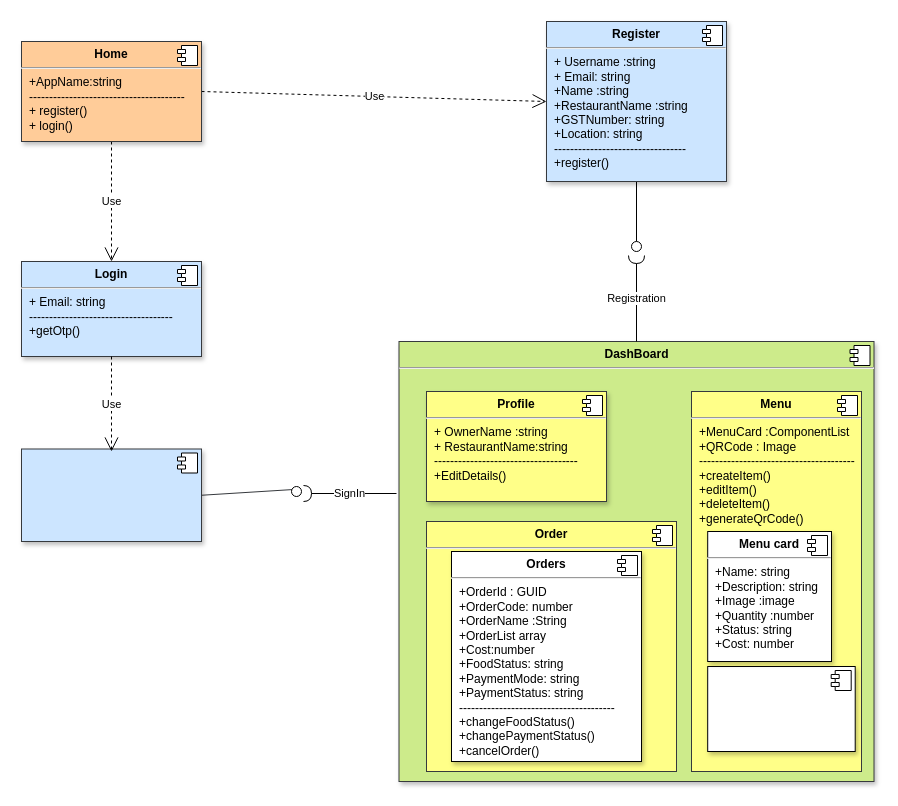
Some shapes in this 898 by 806 pixel diagram are drawn without their labels. Here are the shapes that lost their labels. From the top down, the centre of each, then its label:
At (x=112, y=496): "OTP + OTP:number ------------------------------------ +login()".
At (x=782, y=710): "QR Code +QRCode:Image ------------------------------ + GenerateQRCode()".
